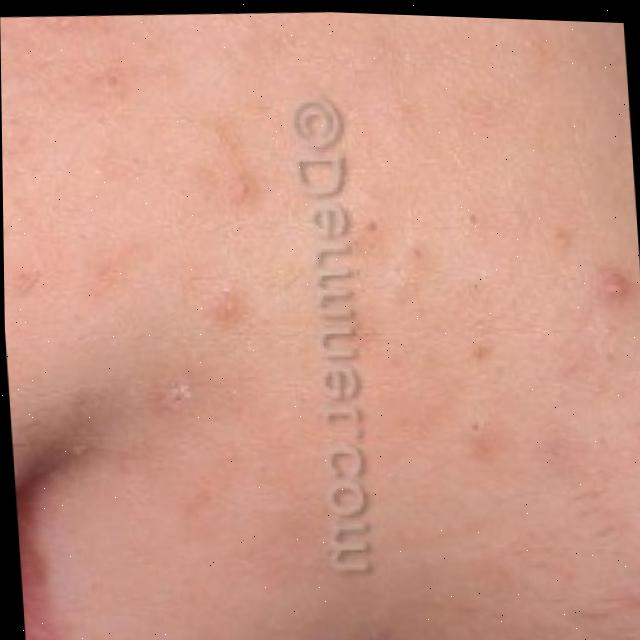Acne: (592, 266, 623, 294), (219, 290, 242, 322), (164, 383, 188, 411)
